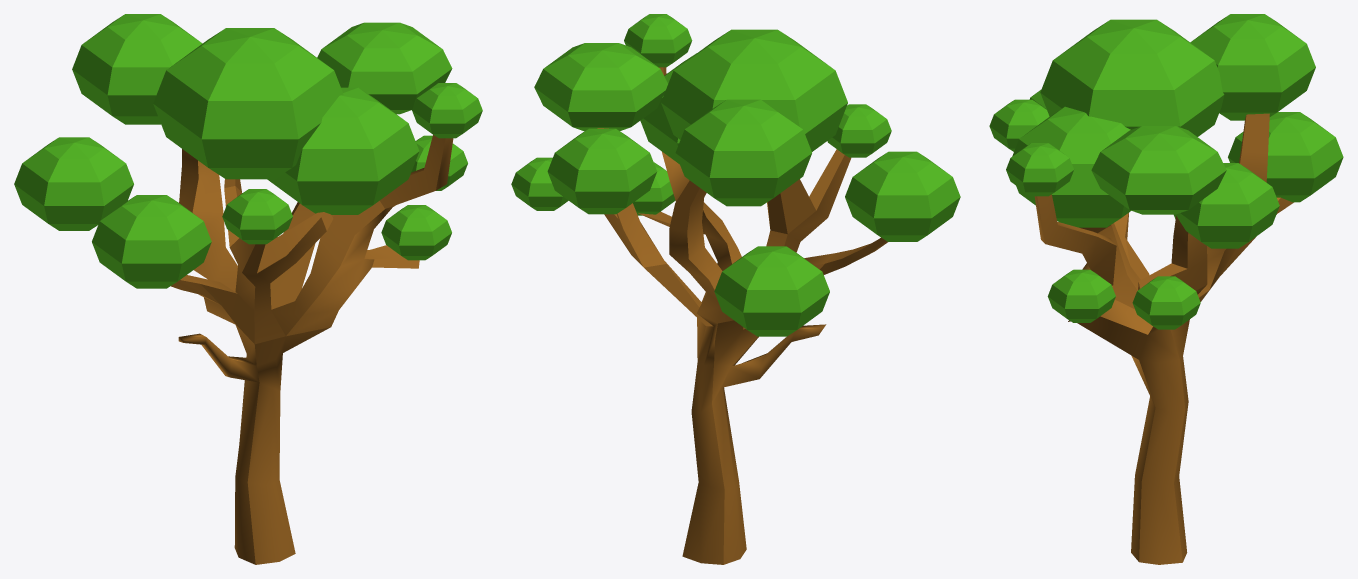
The model's file is arbol2.fbx.
3 views of the same model, side by side, from view 1: azimuth 30°, elevation 25°; view 2: azimuth 150°, elevation 25°; view 3: azimuth 270°, elevation 25° (orthographic). The views are drawn at different scales.
Visible parts, largest first — view 1: pCube1, Sphere.002, Sphere.003, Sphere.007, Sphere, Sphere.010, Sphere.001, Sphere.006, Sphere.008, Sphere.005, Sphere.009; view 2: pCube1, Sphere.002, Sphere.007, Sphere.001, Sphere.010, Sphere, Sphere.004, Sphere.008, Sphere.006, Sphere.009, Sphere.003, Sphere.005; view 3: pCube1, Sphere.002, Sphere.001, Sphere.007, Sphere.003, Sphere.010, Sphere.004, Sphere.009, Sphere.005, Sphere.008, Sphere.006.
Boxes of the visible parts, bbox=[...] form: pCube1: bbox=[171, 135, 453, 564]; Sphere.002: bbox=[153, 28, 343, 179]; Sphere.003: bbox=[267, 87, 419, 214]; Sphere.007: bbox=[72, 14, 202, 124]; Sphere: bbox=[92, 195, 211, 288]; Sphere.010: bbox=[14, 137, 133, 230]; Sphere.001: bbox=[317, 22, 452, 114]; Sphere.006: bbox=[222, 189, 292, 244]; Sphere.008: bbox=[412, 83, 482, 138]; Sphere.005: bbox=[381, 205, 451, 260]; Sphere.009: bbox=[411, 135, 467, 190]; pCube1: bbox=[597, 67, 887, 564]; Sphere.002: bbox=[661, 29, 847, 151]; Sphere.007: bbox=[675, 99, 811, 206]; Sphere.001: bbox=[534, 43, 667, 131]; Sphere.010: bbox=[714, 246, 829, 336]; Sphere: bbox=[845, 151, 960, 241]; Sphere.004: bbox=[547, 128, 657, 214]; Sphere.008: bbox=[624, 14, 692, 67]; Sphere.006: bbox=[827, 104, 891, 157]; Sphere.009: bbox=[511, 157, 568, 210]; Sphere.003: bbox=[640, 53, 696, 164]; Sphere.005: bbox=[633, 162, 675, 215]; pCube1: bbox=[1034, 113, 1293, 564]; Sphere.002: bbox=[1040, 19, 1224, 136]; Sphere.001: bbox=[1091, 126, 1226, 214]; Sphere.007: bbox=[1190, 14, 1315, 120]; Sphere.003: bbox=[1012, 106, 1130, 227]; Sphere.010: bbox=[1228, 112, 1343, 202]; Sphere.004: bbox=[1174, 163, 1279, 248]; Sphere.009: bbox=[1132, 276, 1200, 329]; Sphere.005: bbox=[1047, 269, 1115, 322]; Sphere.008: bbox=[1006, 143, 1073, 196]; Sphere.006: bbox=[989, 99, 1049, 151].
Size of the model in its own units: 166 by 212 by 133.
